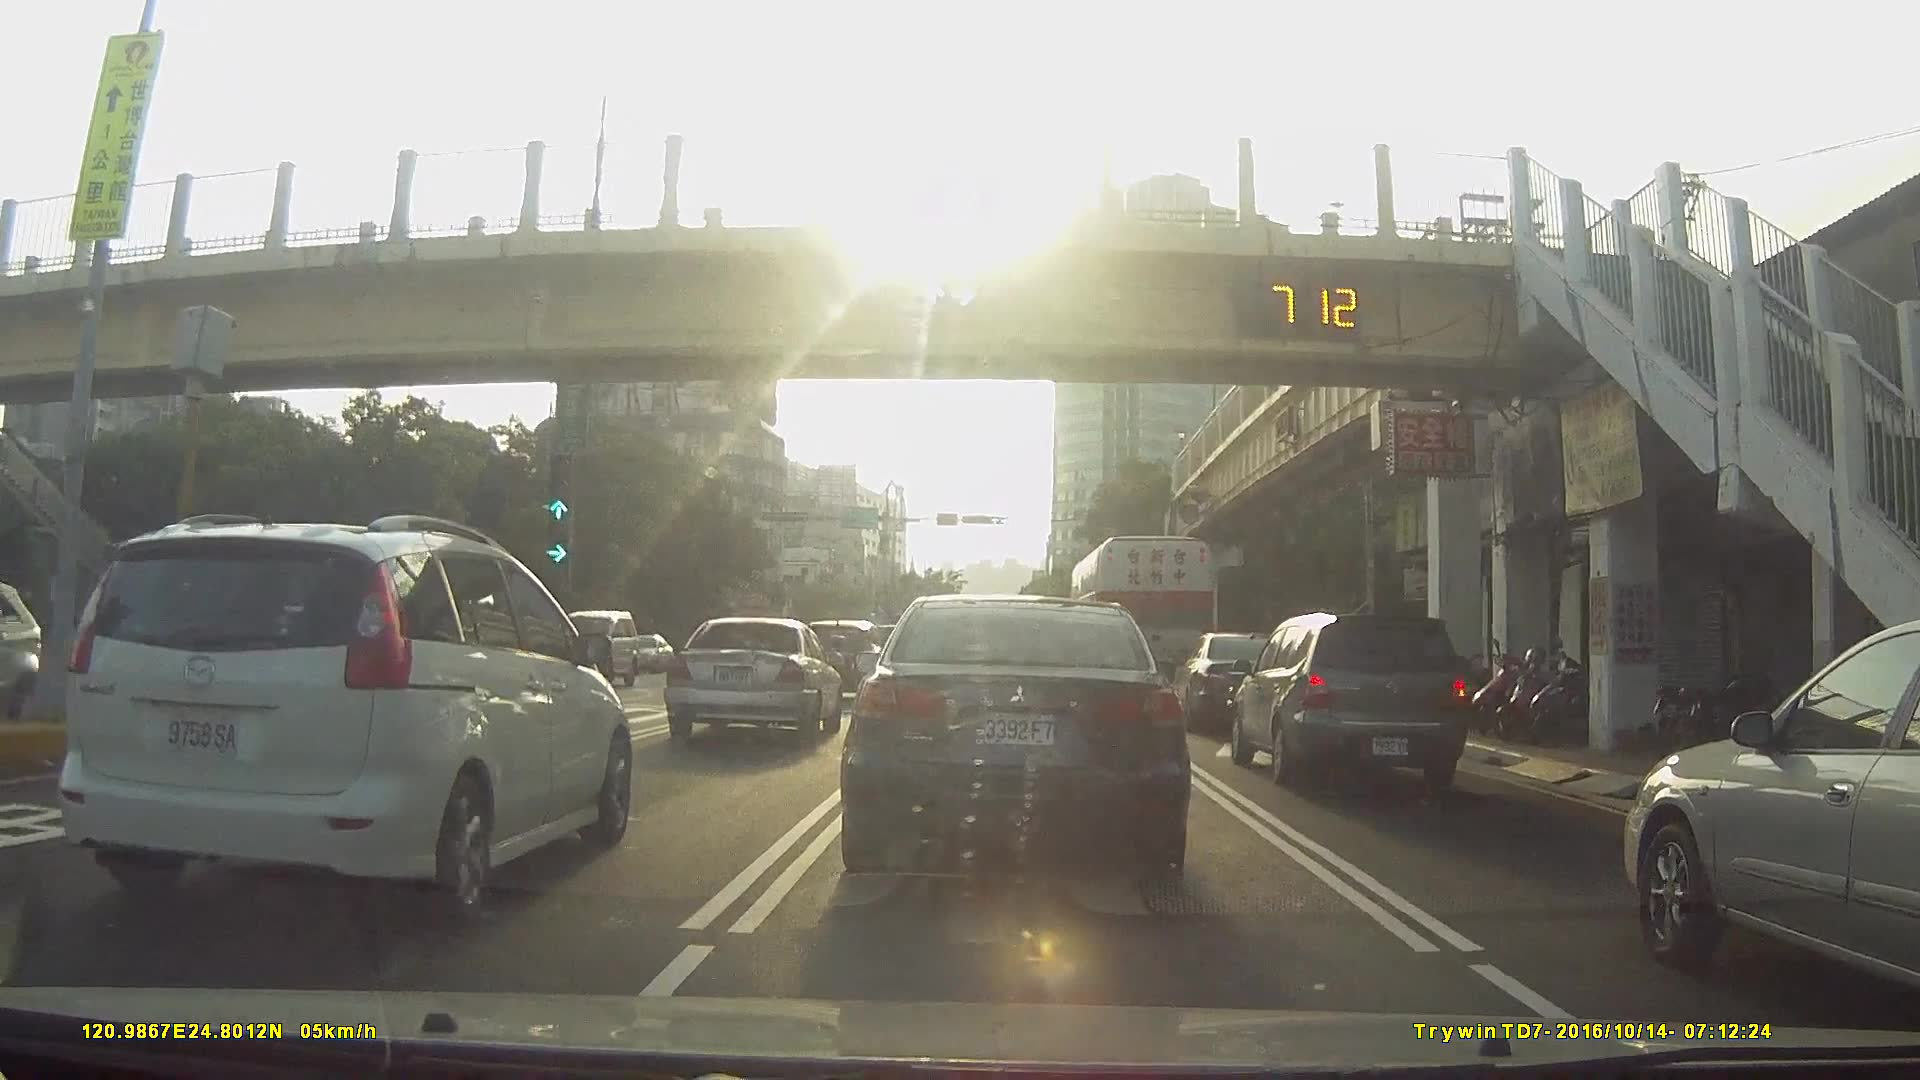vehicle: (51, 510, 633, 919), (1614, 617, 1920, 1015), (841, 588, 1188, 905), (1225, 608, 1466, 794), (1068, 534, 1215, 698), (662, 615, 841, 744), (1167, 628, 1294, 731), (538, 603, 644, 686), (790, 612, 880, 691), (622, 630, 680, 676)
